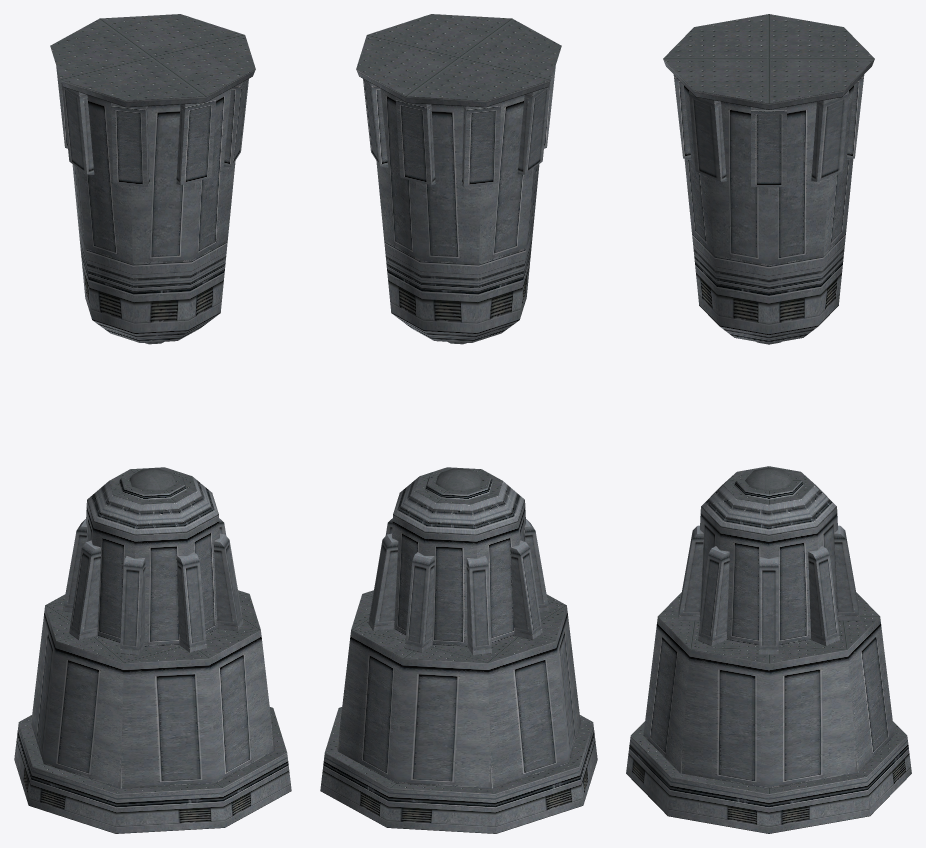
Rendered from poi_all_impl_bunker_pillar_s02_l1.fbx.
3 views of the same model, side by side, from view 1: azimuth 30°, elevation 25°; view 2: azimuth 150°, elevation 25°; view 3: azimuth 270°, elevation 25° (orthographic).
Visible parts, largest first — view 1: mesh_node; view 2: mesh_node; view 3: mesh_node.
Boxes of the visible parts, <box> form: mesh_node: <box>14,14,291,833</box>; mesh_node: <box>320,14,597,833</box>; mesh_node: <box>626,14,911,833</box>.
Size of the model in its own units: 2 by 5.51 by 2.
3 materials, 3 textured.
